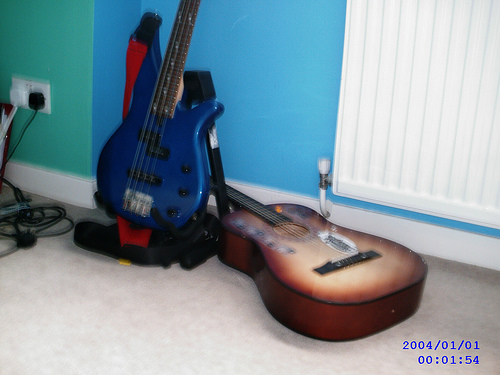guitar: (205, 173, 429, 345)
